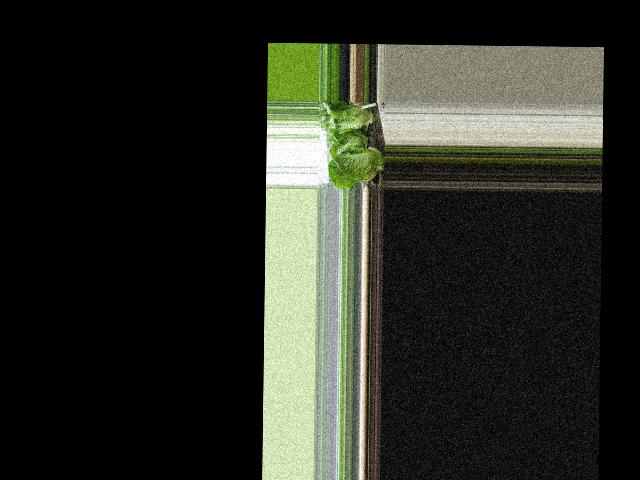lettuce: (323, 104, 380, 134)
